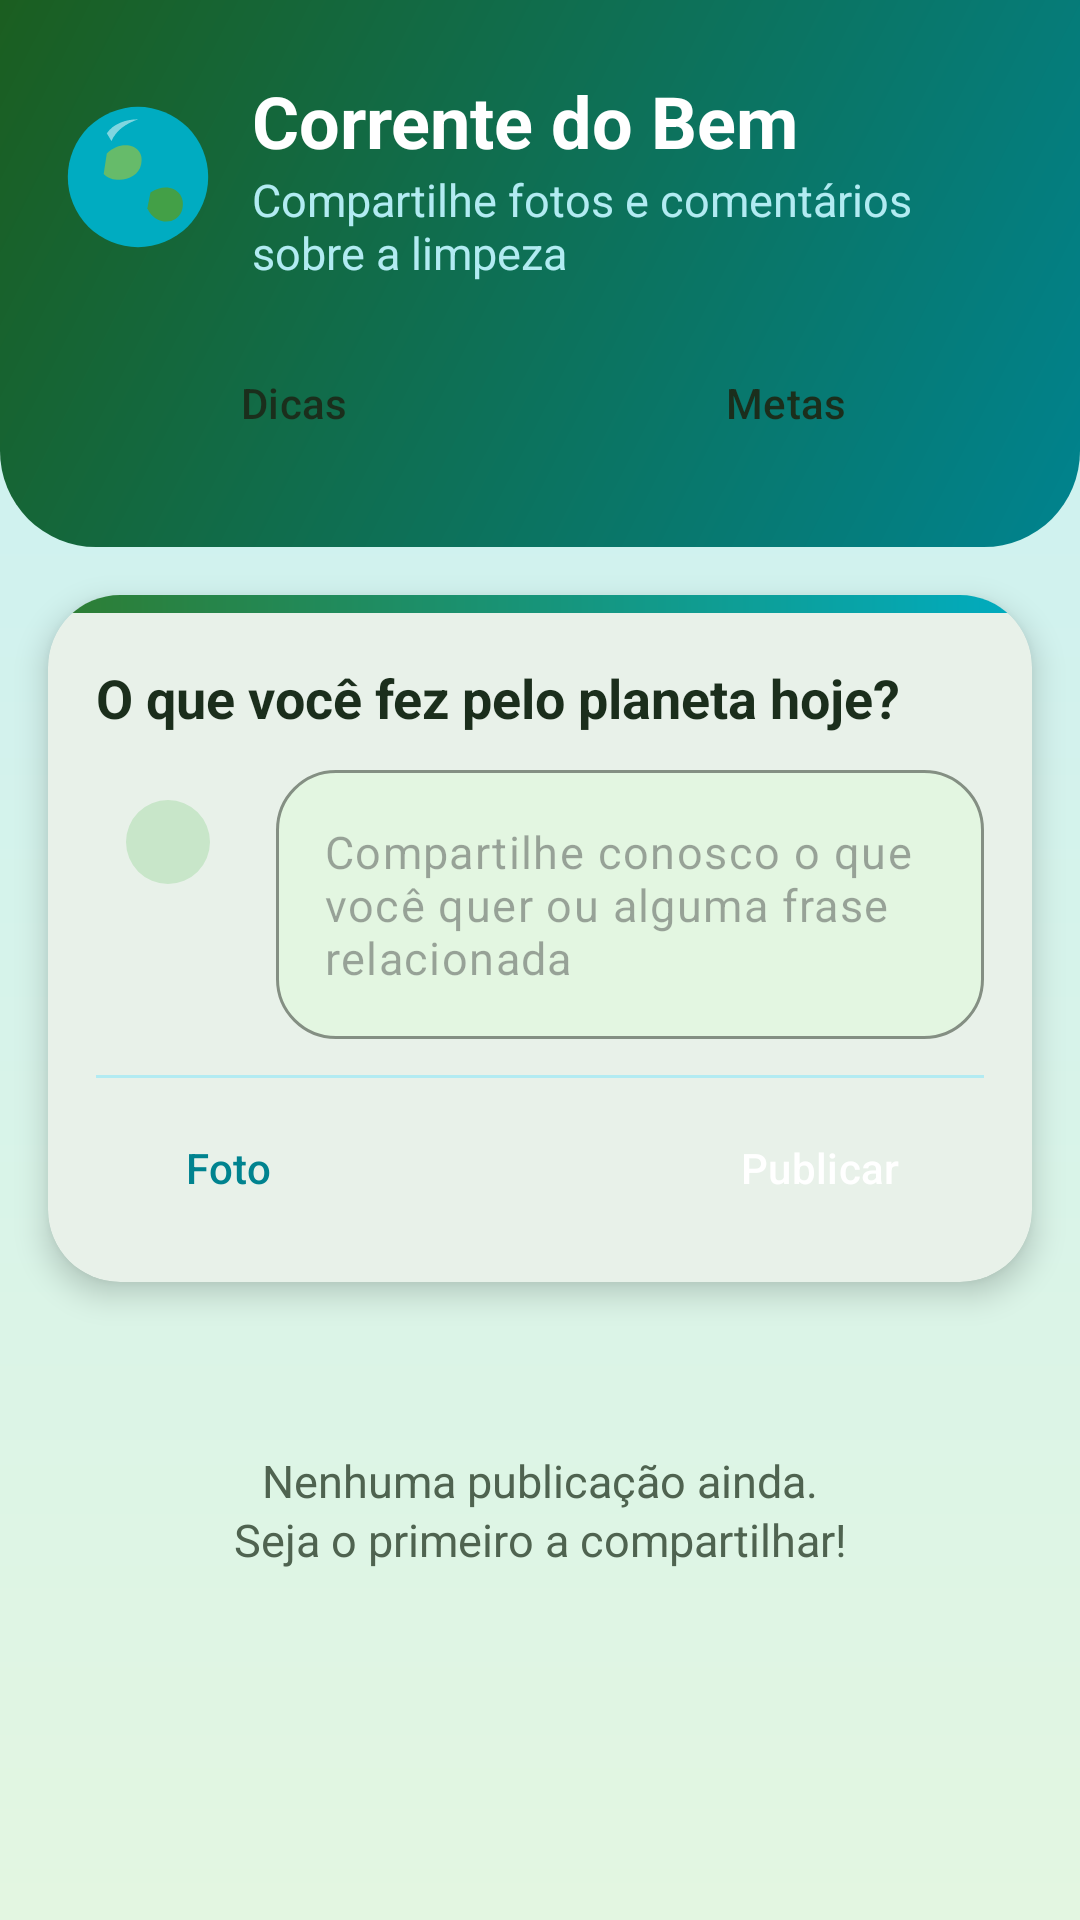

Where icons sit on this 1080w x 1920h app screen, as {"left": x1, "top": y1, "right": x2, "bottom": y2}:
Ilustração do planeta Terra com oceanos e florestas: {"left": 68, "top": 106, "right": 209, "bottom": 248}
